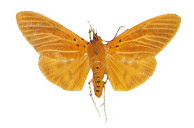Agape chloropyga: (15, 11, 182, 124)
moth: (16, 10, 183, 123)
